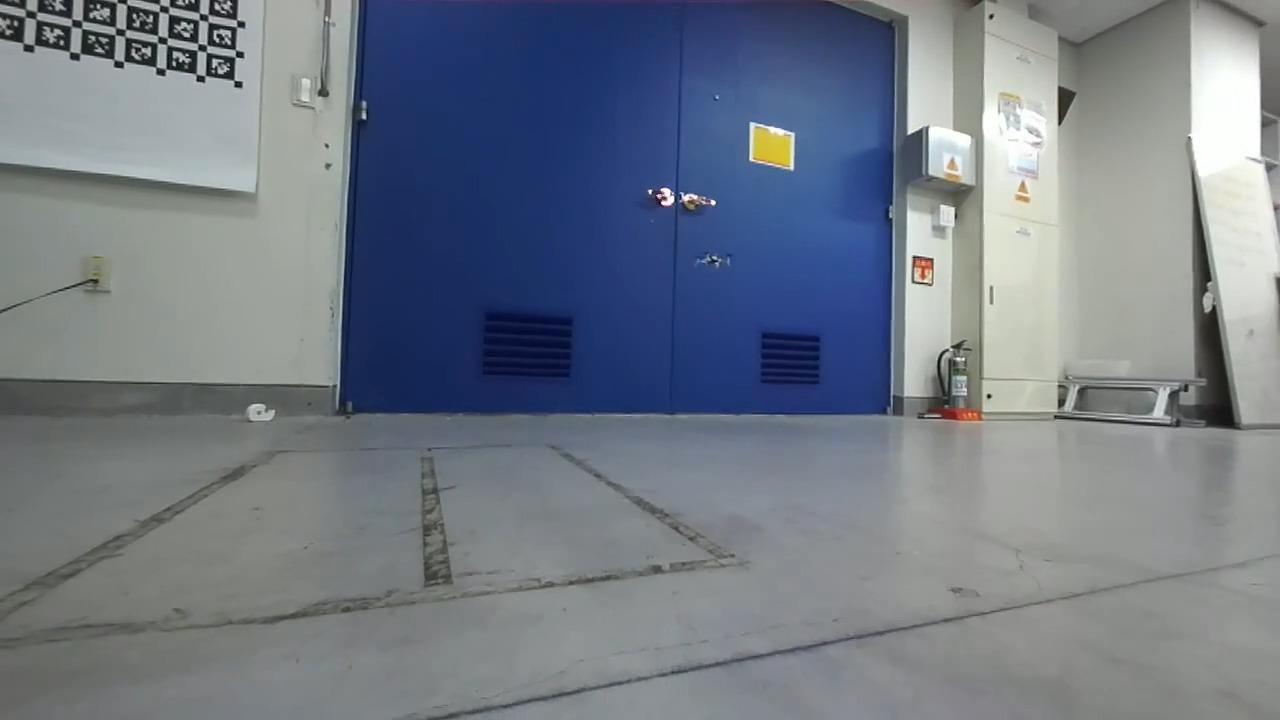crazyflie: (689, 245, 740, 273)
